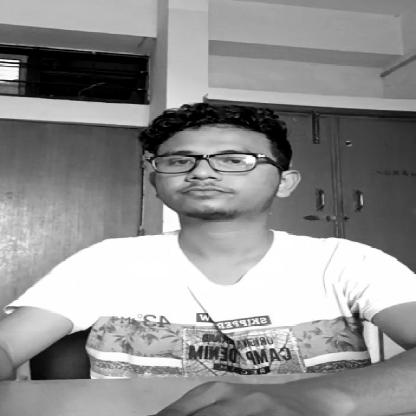Normal: (126, 102, 307, 236)
